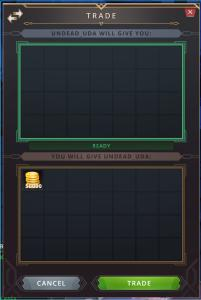gold: (21, 169, 43, 190)
